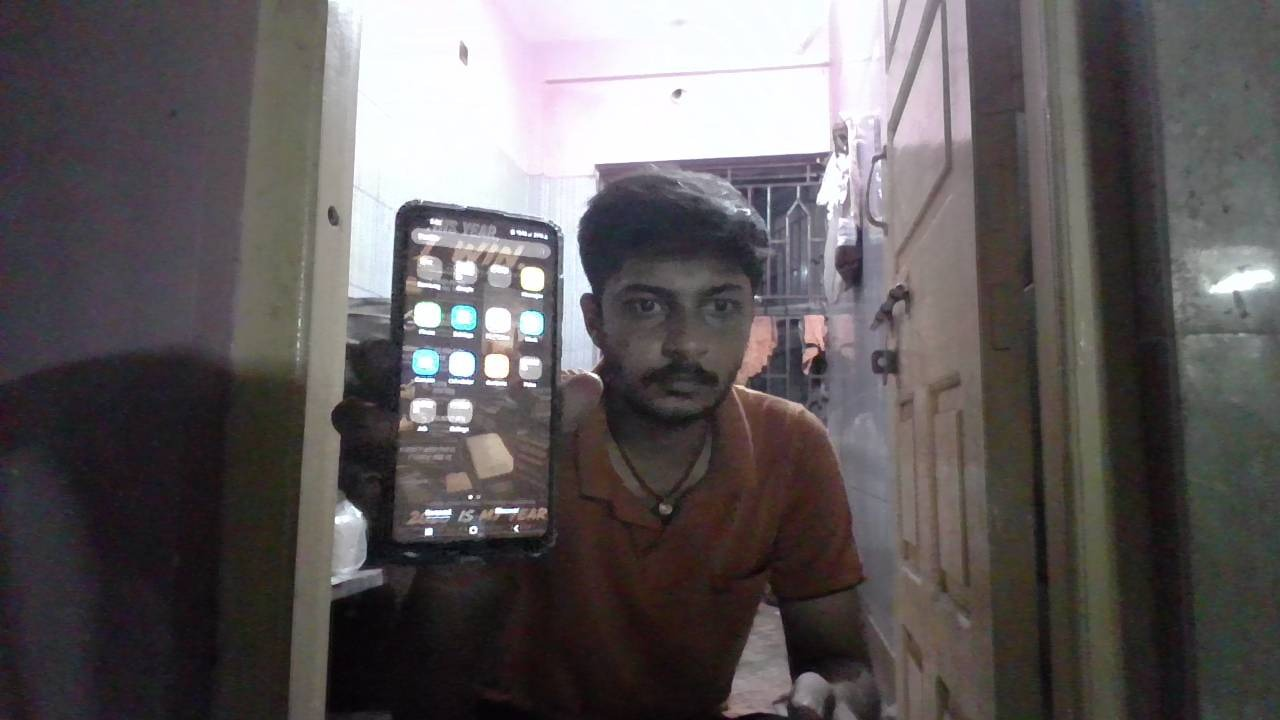red_box: (687, 398, 865, 584), (591, 450, 660, 529)
